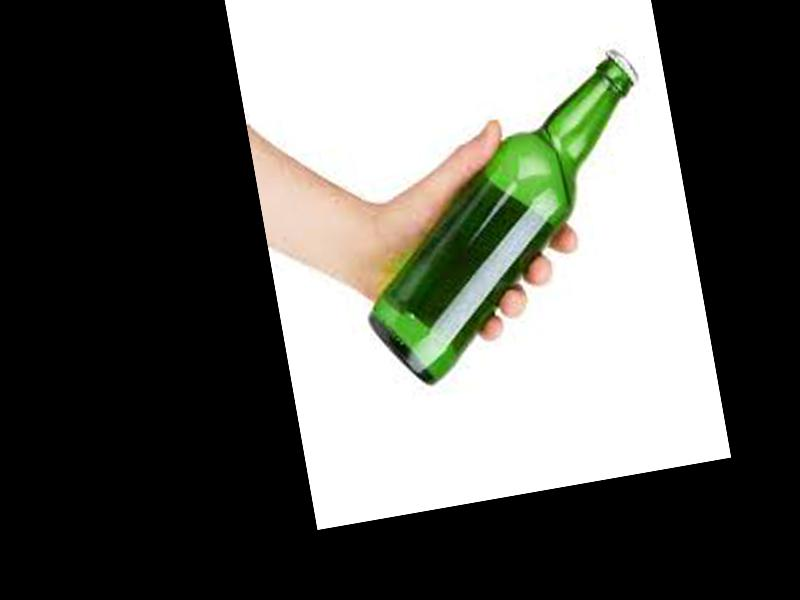Beer: (324, 46, 679, 391)
